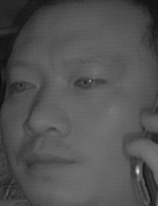eye: (72, 72, 107, 94), (8, 75, 40, 94)
mouth: (24, 142, 80, 179)
